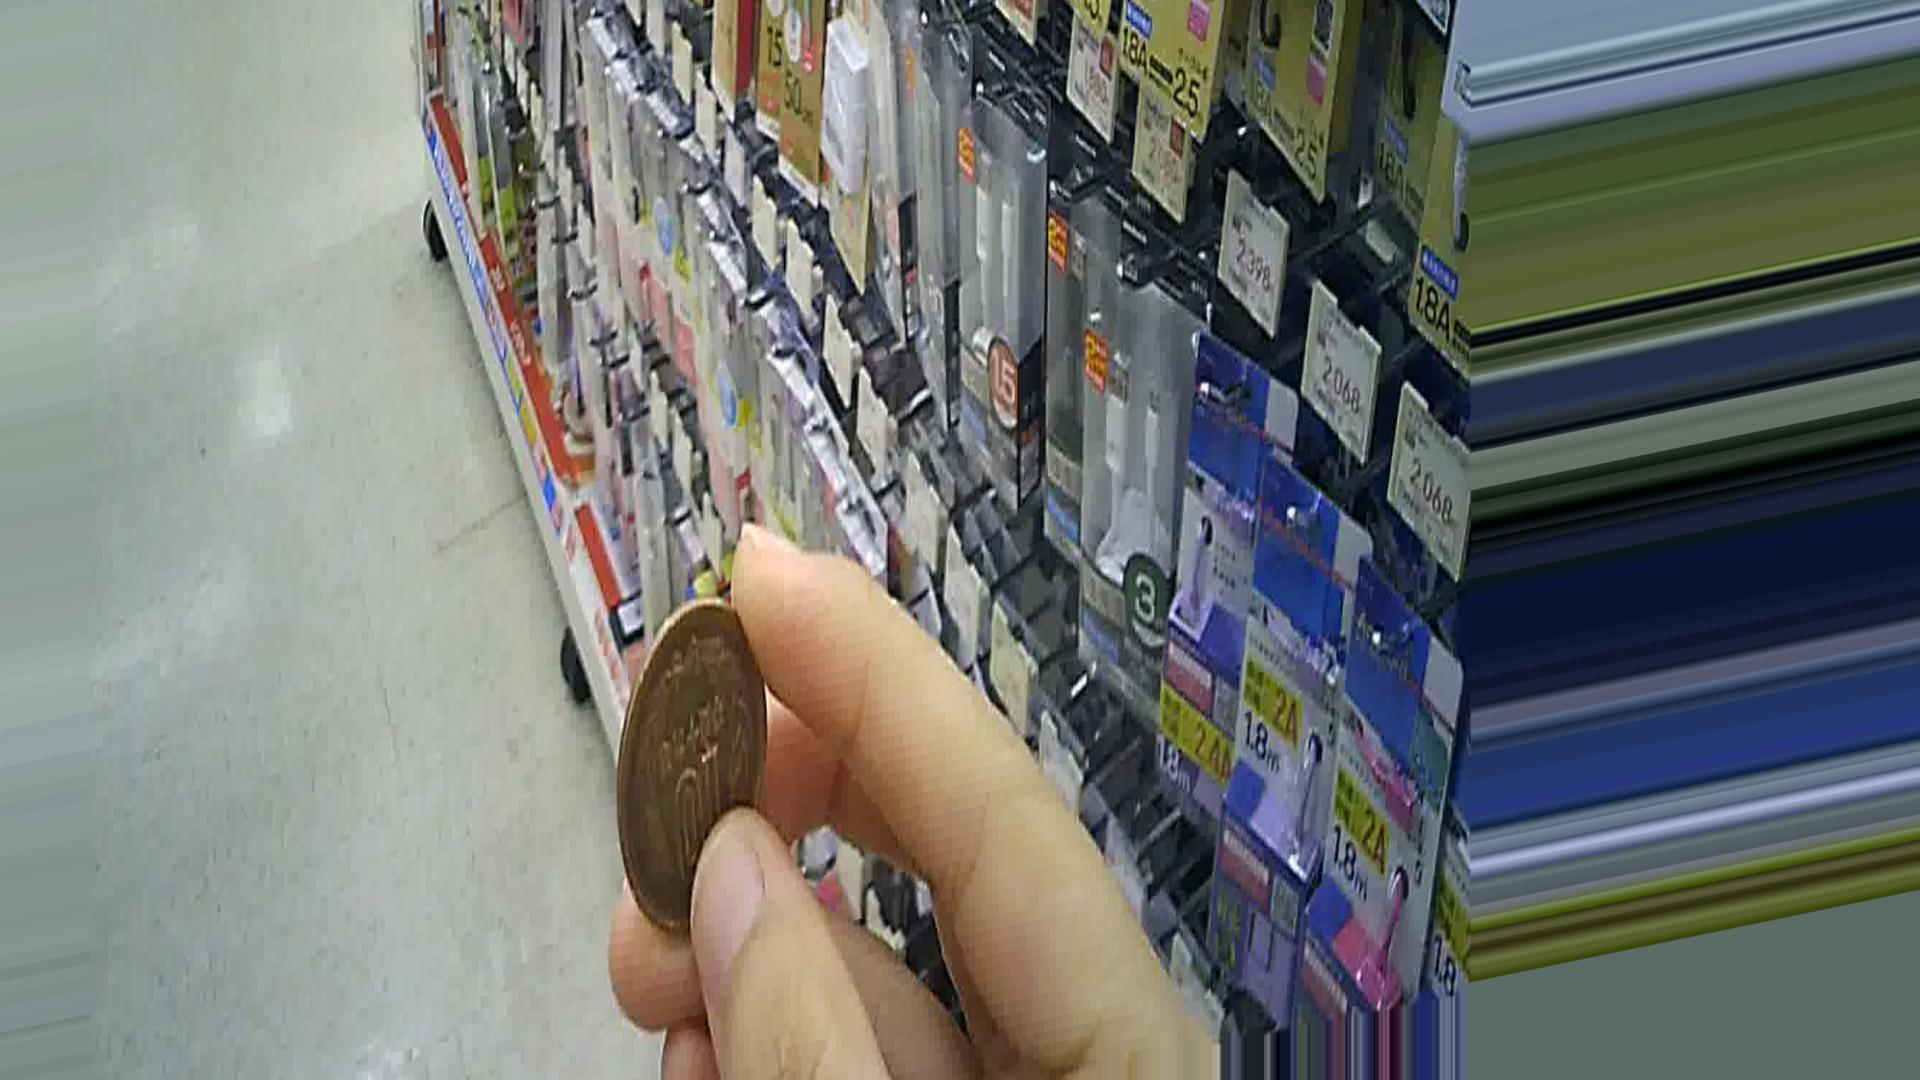10 Yen: (603, 582, 770, 905)
